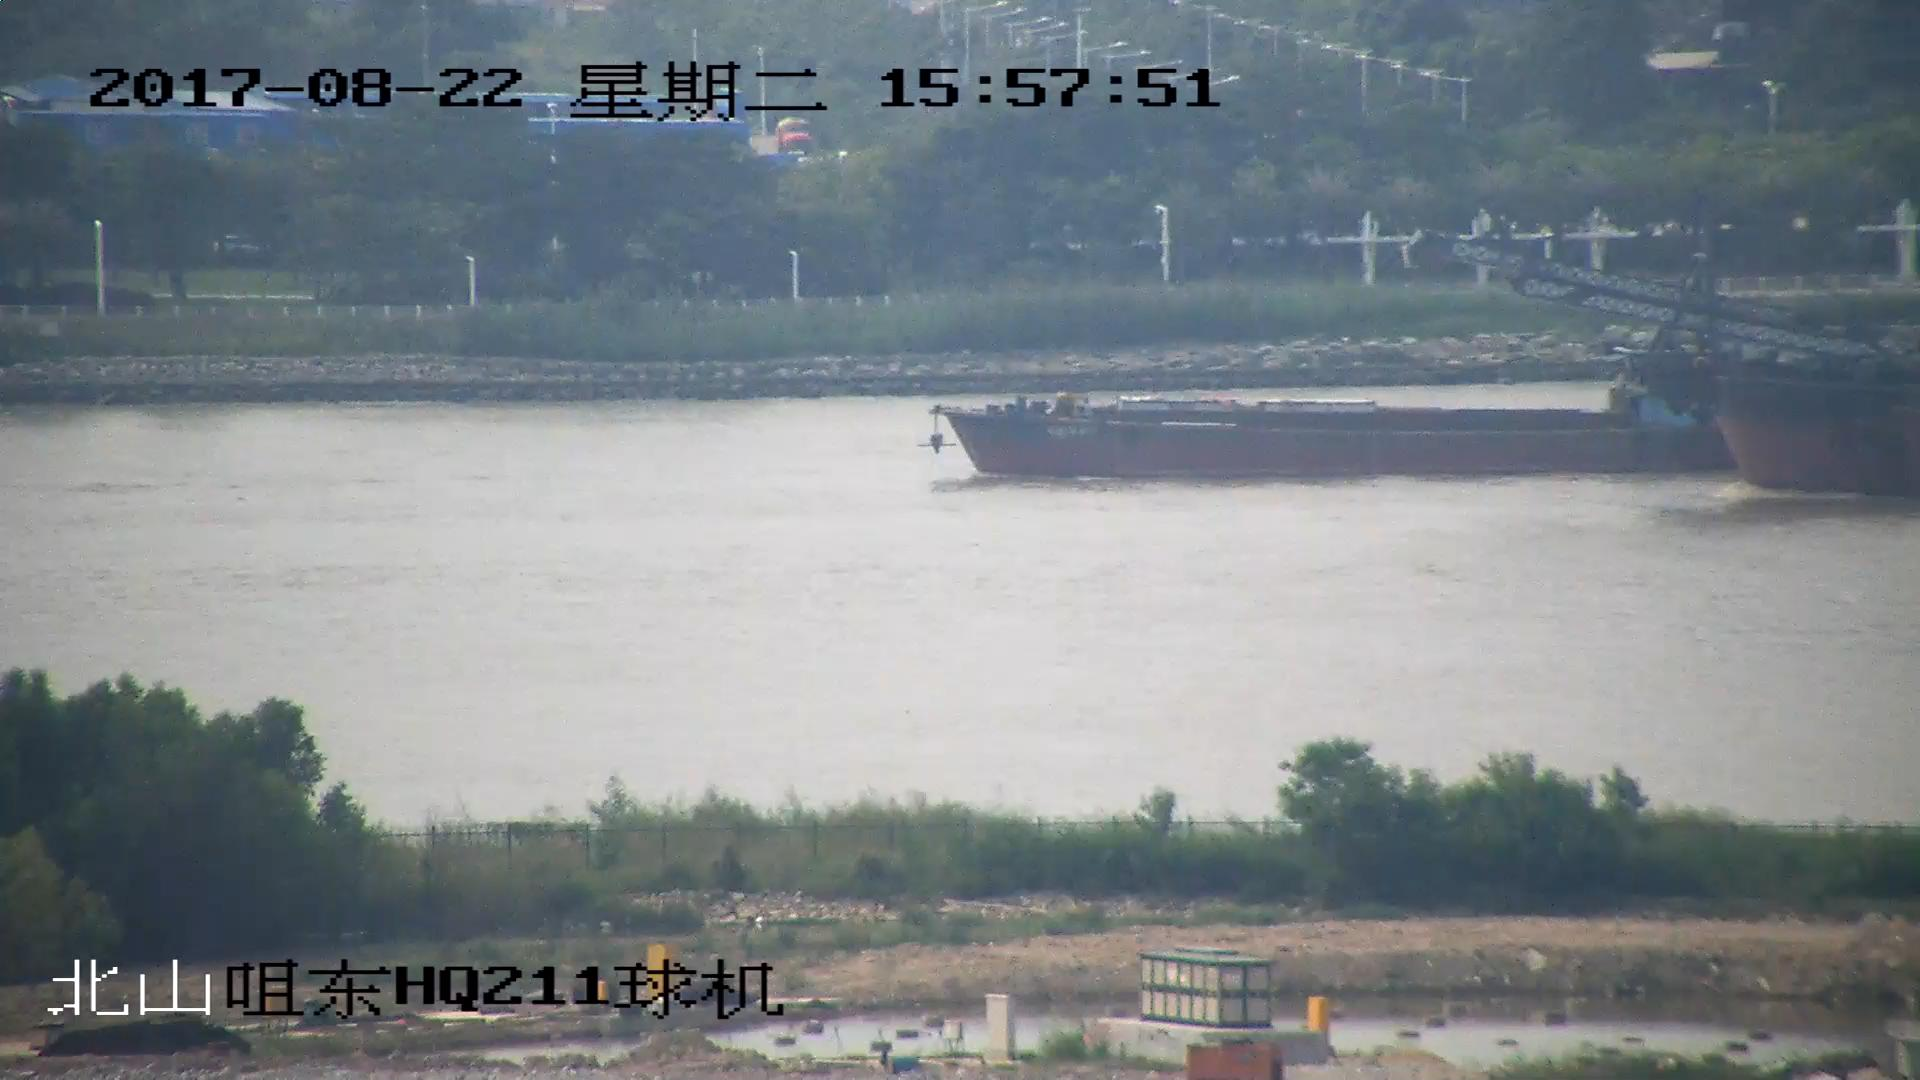bulk cargo carrier: (1419, 233, 1920, 504), (929, 365, 1763, 480)
